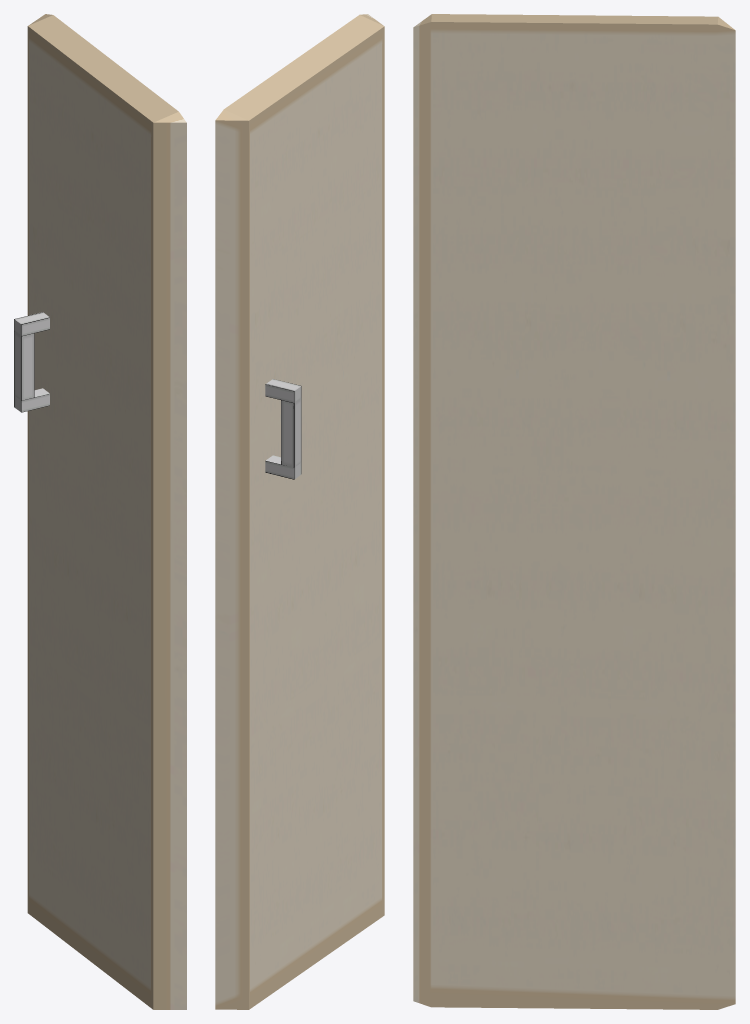
The model's file is Wardrobe_Door_Right.fbx.
The picture shows the model from 3 angles, left to right: view 1: azimuth 30°, elevation 25°; view 2: azimuth 150°, elevation 25°; view 3: azimuth 270°, elevation 25°; orthographic projection. The views are drawn at different scales.
Visible parts, largest first — view 1: Wardrobe_Door_Left1; view 2: Wardrobe_Door_Left1; view 3: Wardrobe_Door_Left1.
Boxes of the visible parts, x1,y1,x2,y2 form: Wardrobe_Door_Left1: [14, 14, 186, 1009]; Wardrobe_Door_Left1: [215, 14, 384, 1009]; Wardrobe_Door_Left1: [413, 14, 735, 1009].
Size of the model in its own units: 13.51 by 210 by 62.37.
